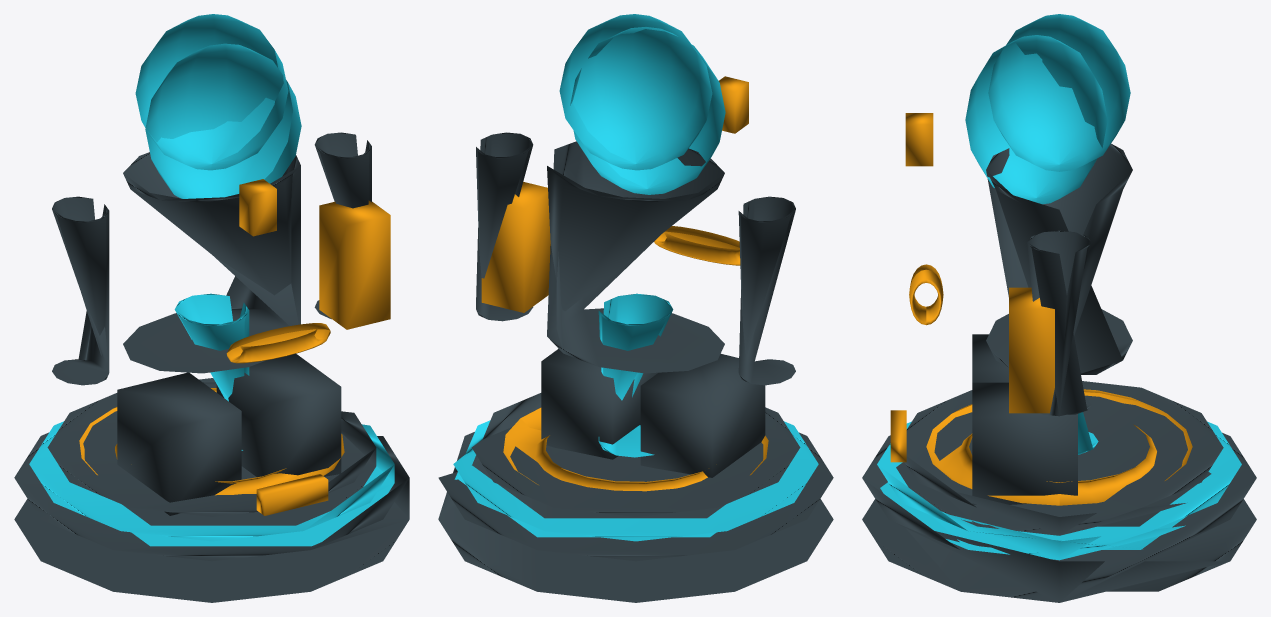
File: pain_hider.glb
The picture shows the model from 3 angles, left to right: view 1: azimuth 30°, elevation 25°; view 2: azimuth 150°, elevation 25°; view 3: azimuth 270°, elevation 25°; orthographic projection.
Parts seen in each view (by area): view 1: pain_hider_#35434A, pain_hider_#22D3EE, pain_hider_#F59E0B; view 2: pain_hider_#35434A, pain_hider_#22D3EE, pain_hider_#F59E0B; view 3: pain_hider_#35434A, pain_hider_#22D3EE, pain_hider_#F59E0B.
Boxes of the visible parts, x1,y1,x2,y2 form: pain_hider_#35434A: (14, 132, 409, 602); pain_hider_#22D3EE: (29, 14, 394, 546); pain_hider_#F59E0B: (79, 179, 390, 515); pain_hider_#35434A: (438, 132, 833, 602); pain_hider_#22D3EE: (453, 14, 818, 541); pain_hider_#F59E0B: (481, 76, 768, 491); pain_hider_#35434A: (862, 143, 1256, 602); pain_hider_#22D3EE: (877, 14, 1241, 560); pain_hider_#F59E0B: (890, 113, 1192, 505).
Size of the model in its own units: 1.72 by 2.39 by 1.72.
